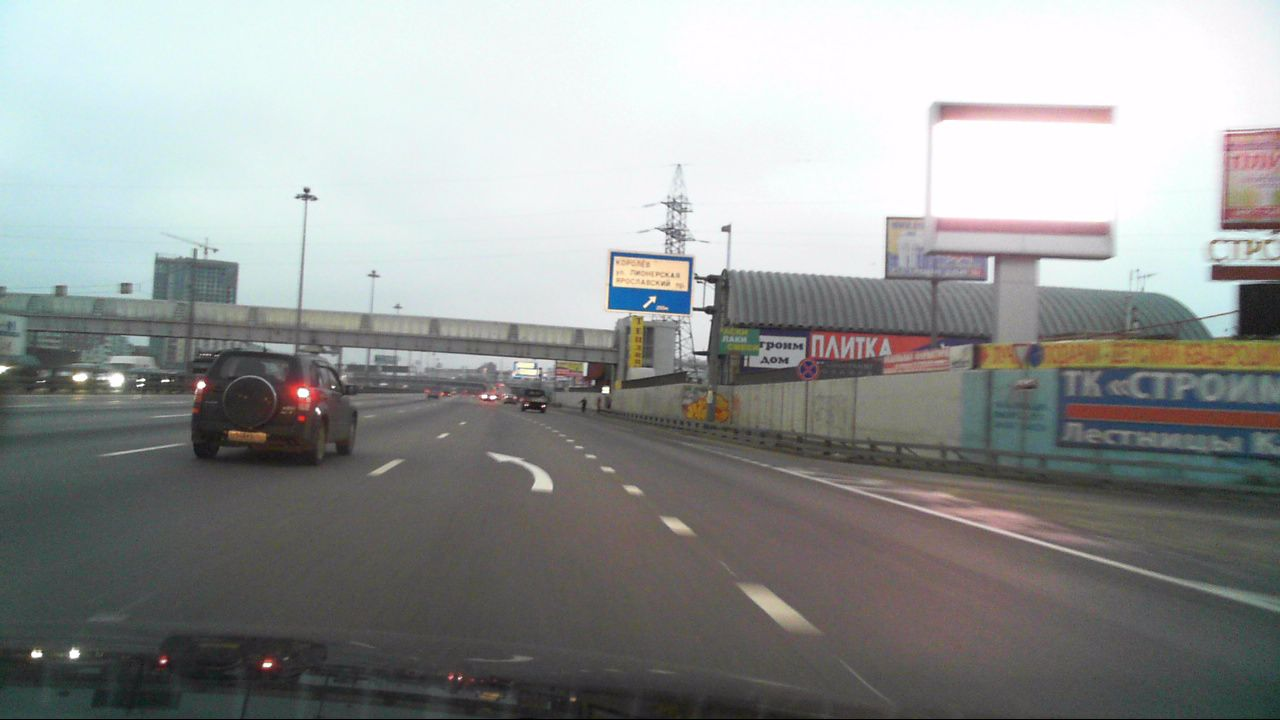No Parking: (797, 359, 819, 380)
